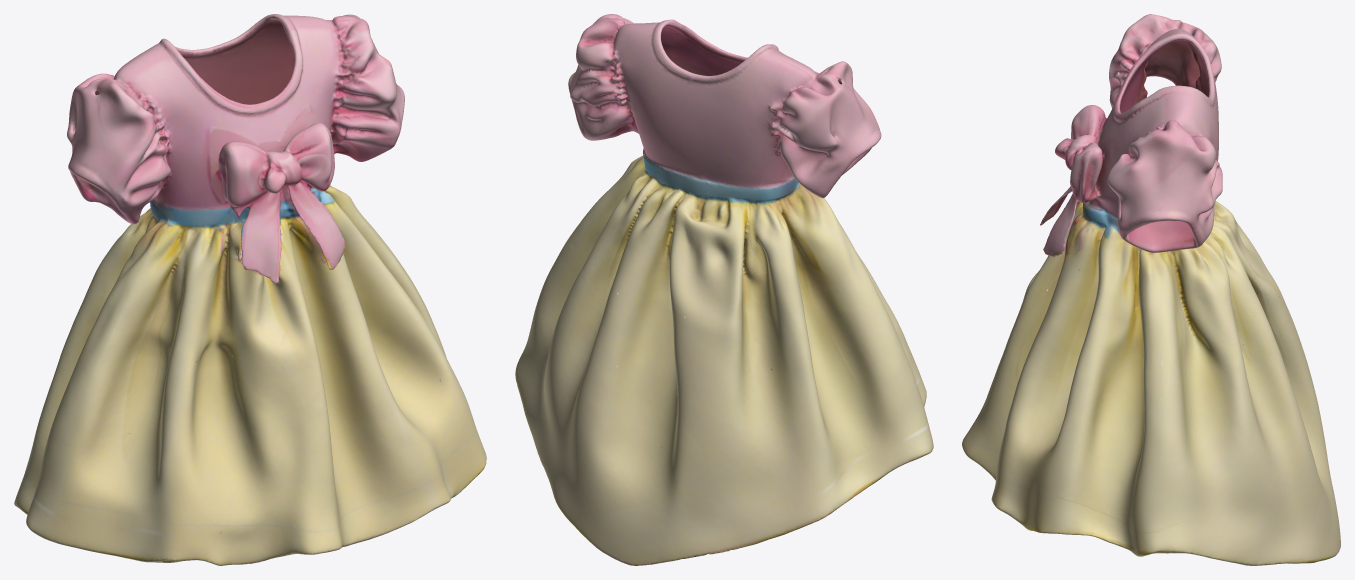
Rendered from dress.glb.
The picture shows the model from 3 angles, left to right: view 1: azimuth 30°, elevation 25°; view 2: azimuth 150°, elevation 25°; view 3: azimuth 270°, elevation 25°; orthographic projection. The views are drawn at different scales.
Bounding box in the file's own units: 52000 × 59288 × 42076.
Materials: 1 (1 with a texture image).
